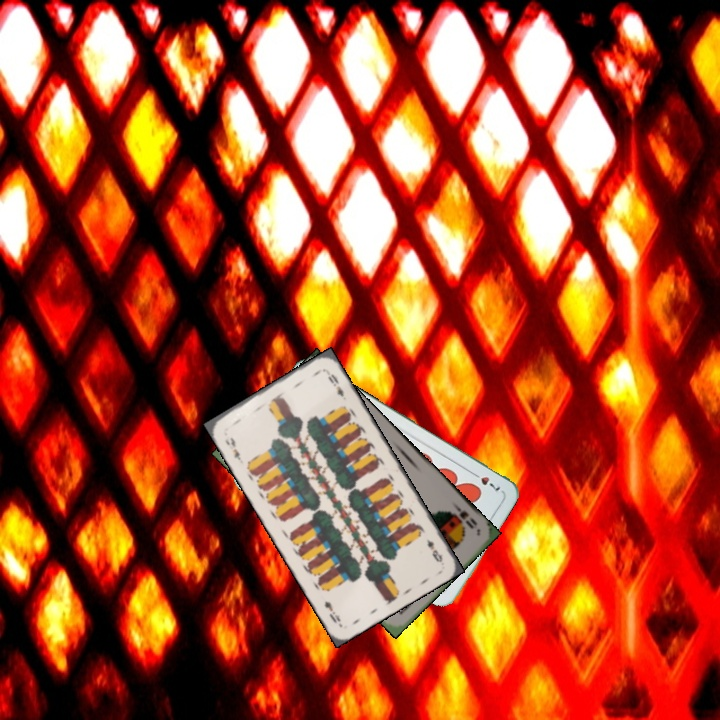E9: (422, 535, 445, 565), (221, 433, 244, 463)
H7: (467, 468, 503, 493)
SO: (449, 499, 480, 532)
